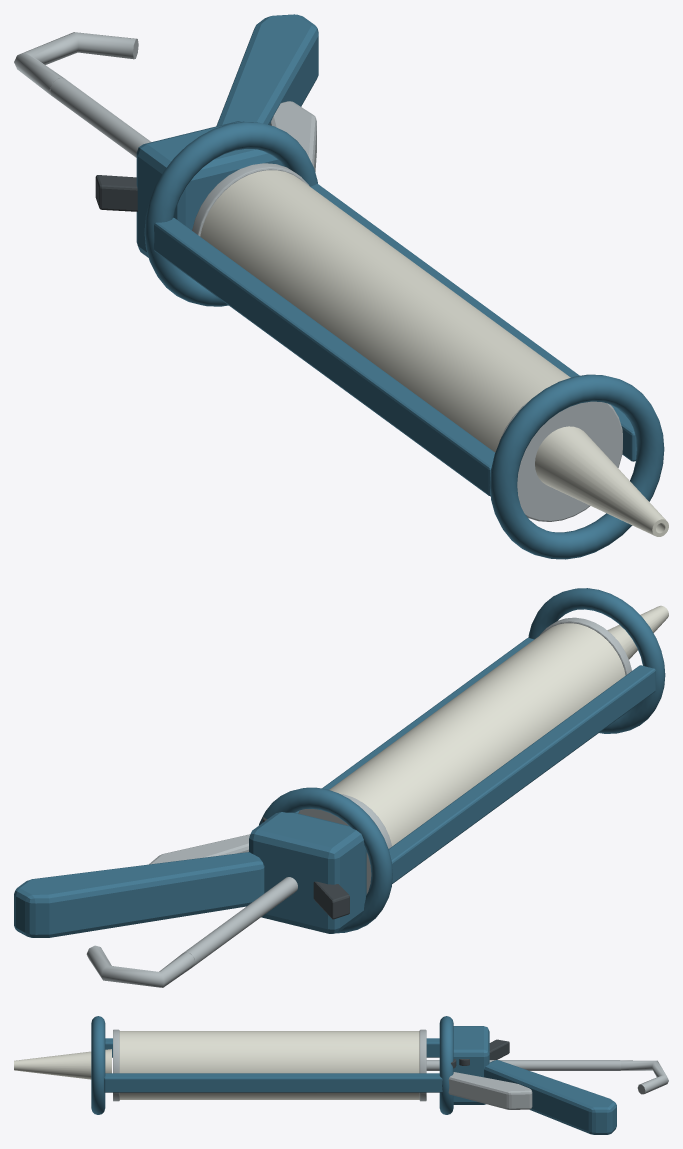
The model's file is city-cartridge-caulking-gun.glb.
3 views of the same model, one above another, from view 1: azimuth 30°, elevation 25°; view 2: azimuth 150°, elevation 25°; view 3: azimuth 270°, elevation 25° (orthographic). The views are drawn at different scales.
Parts seen in each view (by area): view 1: Assembly | Muted blue enamel, Assembly | Unbranded ivory cartridge, Assembly | Satin forged tool steel, Assembly | Dark steel and fittings; view 2: Assembly | Muted blue enamel, Assembly | Unbranded ivory cartridge, Assembly | Satin forged tool steel, Assembly | Dark steel and fittings; view 3: Assembly | Unbranded ivory cartridge, Assembly | Muted blue enamel, Assembly | Satin forged tool steel, Assembly | Dark steel and fittings.
Boxes of the visible parts, left/top/right/bottom form: Assembly | Muted blue enamel: left=136, top=14, right=664, bottom=559; Assembly | Unbranded ivory cartridge: left=200, top=170, right=668, bottom=536; Assembly | Satin forged tool steel: left=14, top=32, right=622, bottom=521; Assembly | Dark steel and fittings: left=95, top=175, right=137, bottom=211; Assembly | Muted blue enamel: left=14, top=588, right=665, bottom=937; Assembly | Unbranded ivory cartridge: left=329, top=605, right=668, bottom=846; Assembly | Satin forged tool steel: left=86, top=617, right=631, bottom=987; Assembly | Dark steel and fittings: left=262, top=817, right=349, bottom=919; Assembly | Unbranded ivory cartridge: left=14, top=1031, right=419, bottom=1099; Assembly | Muted blue enamel: left=91, top=1016, right=616, bottom=1134; Assembly | Satin forged tool steel: left=113, top=1029, right=668, bottom=1109; Assembly | Dark steel and fittings: left=451, top=1039, right=509, bottom=1068.
Size of the model in its own units: 0.134 by 0.072 by 0.4738.
